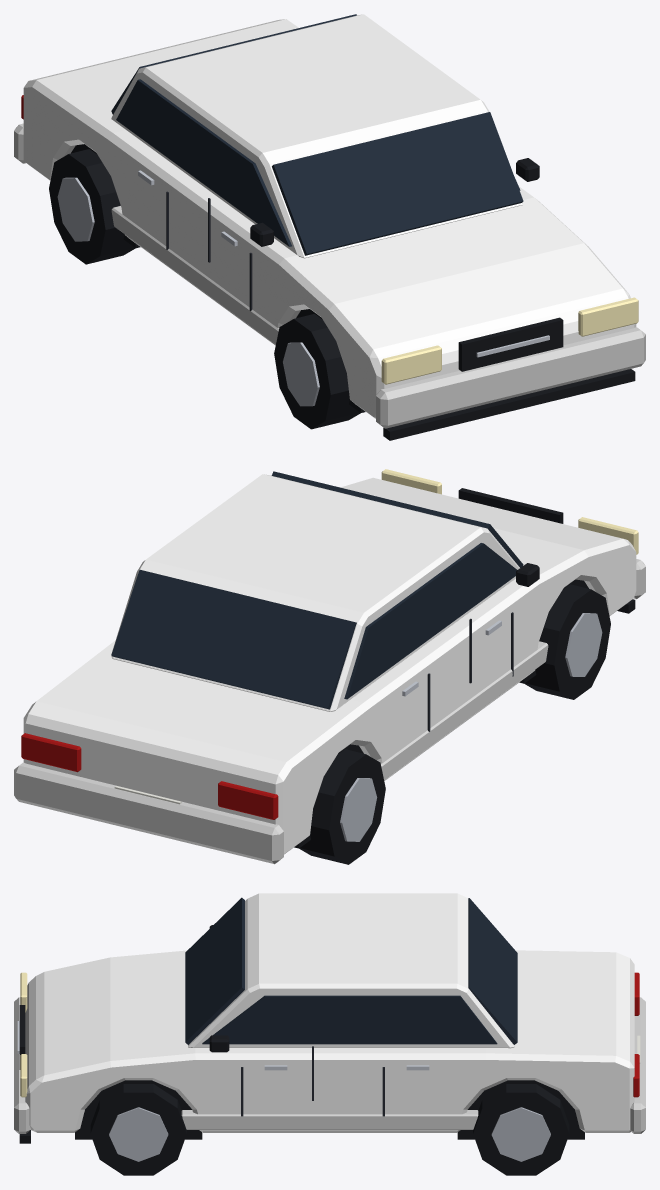
File: car.glb
3 renders of one model, top to bottom at view 1: azimuth 30°, elevation 25°; view 2: azimuth 150°, elevation 25°; view 3: azimuth 270°, elevation 25°, orthographic. The views are drawn at different scales.
Visible parts, largest first — view 1: body, detail; view 2: body, detail; view 3: body, detail.
Boxes of the visible parts, x1,y1,x2,y2 form: body: (14,14,645,428); detail: (21,14,638,440); body: (14,474,645,864); detail: (21,469,638,864); body: (14,893,645,1133); detail: (17,897,640,1175).
Bounding box in the file's own units: 1.97 × 1.39 × 4.46.
